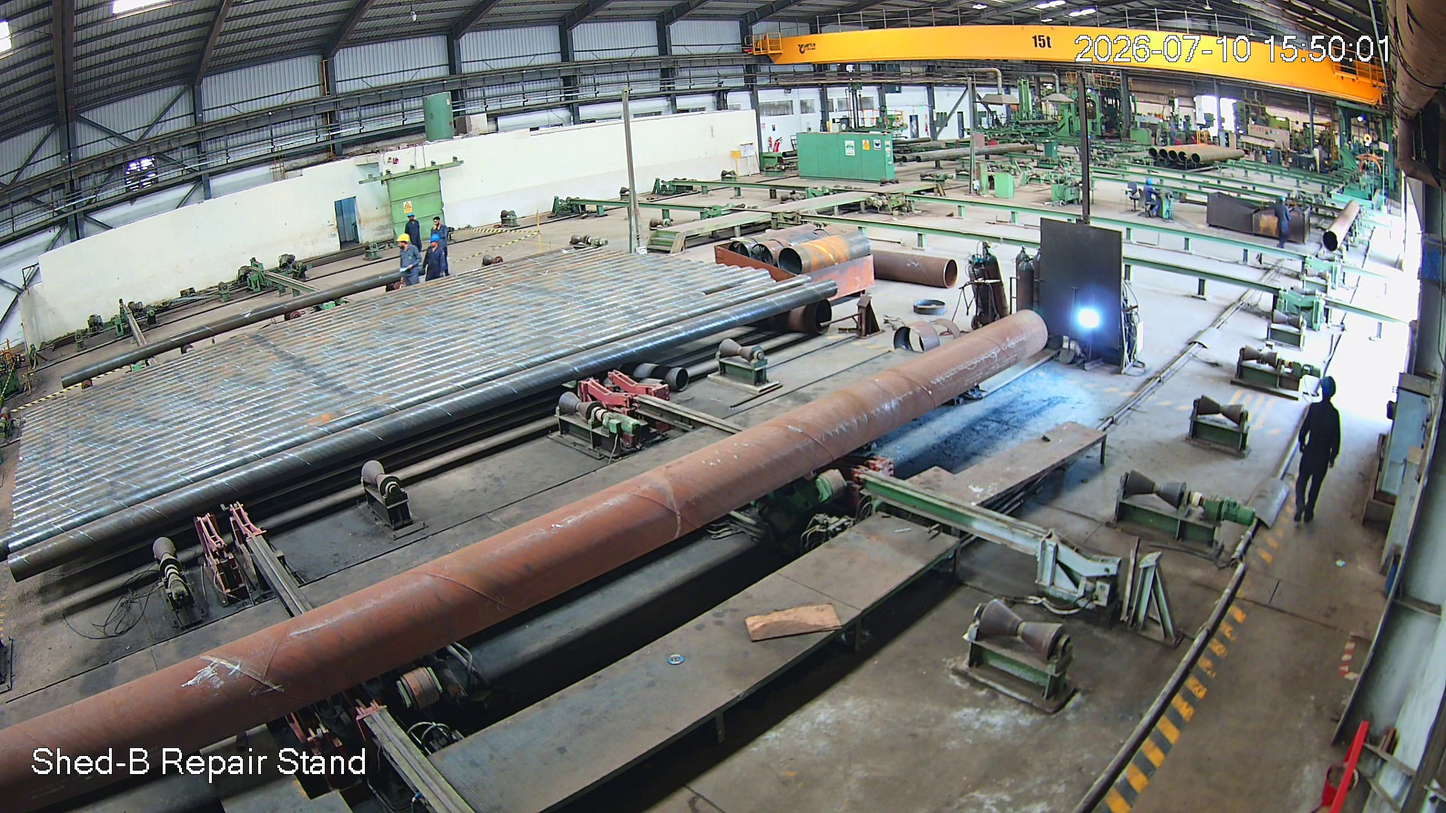Helmet: (394, 231, 413, 254), (427, 233, 444, 250), (405, 211, 420, 224)
Person: (433, 215, 456, 269), (397, 233, 420, 283), (426, 235, 445, 283), (405, 213, 425, 254)
